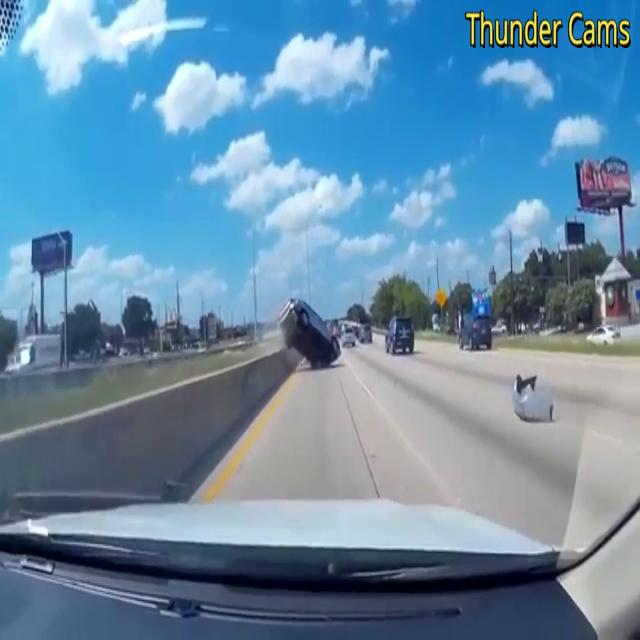accident: (273, 292, 343, 366)
